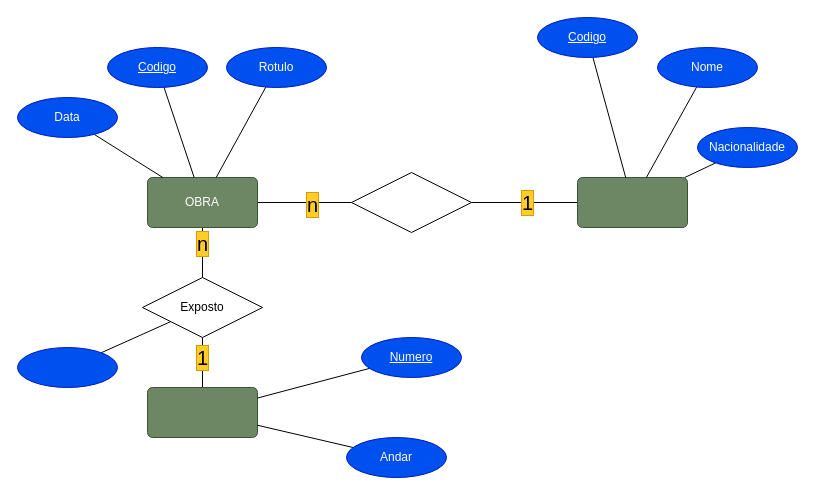
The diagram is 815 pixels wide and 495 high, and some of its shapes have lost their labels. Here are the shapes that lost their labels. From the top down, the centre of each, then its label:
the point at 411,202: Produz
the point at 632,202: AU TOR
the point at 67,367: Posiçao
the point at 202,412: SALAO
